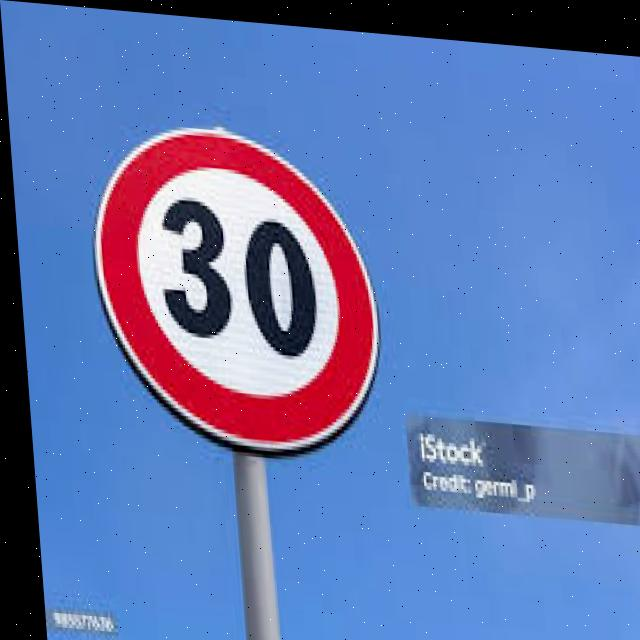Speed limit 30: (79, 111, 385, 463)
